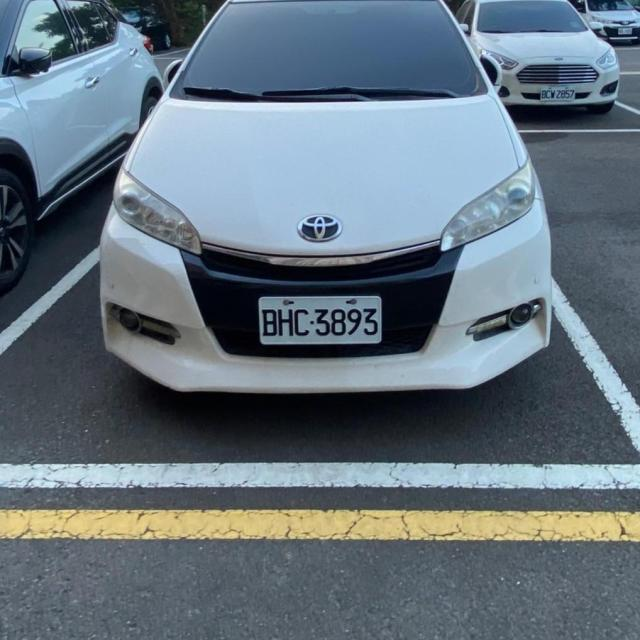W: (258, 294, 382, 345), (540, 84, 576, 102)
